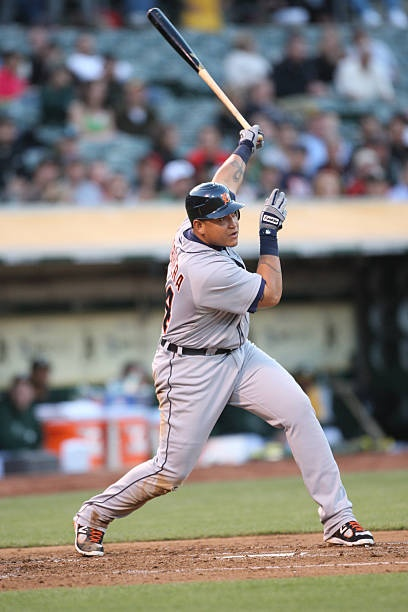bita: (142, 1, 261, 142)
